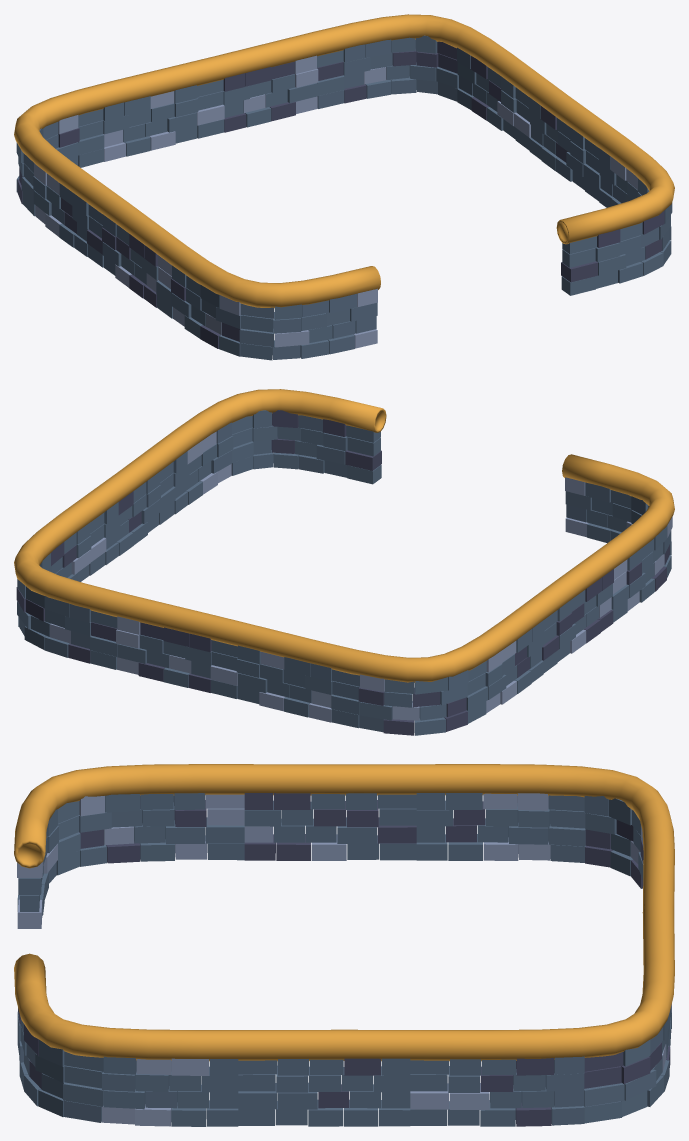
Rendered from FunMediumLvl2.fbx.
3 renders of one model, top to bottom at view 1: azimuth 30°, elevation 25°; view 2: azimuth 150°, elevation 25°; view 3: azimuth 270°, elevation 25°, orthographic. The views are drawn at different scales.
Visible parts, largest first — view 1: WallM2; view 2: WallM2; view 3: WallM2.
Boxes of the visible parts, x1,y1,x2,y2 form: WallM2: (14,14,674,360); WallM2: (14,389,674,735); WallM2: (14,764,674,1126).
Size of the model in its own units: 243 by 36.53 by 243.
